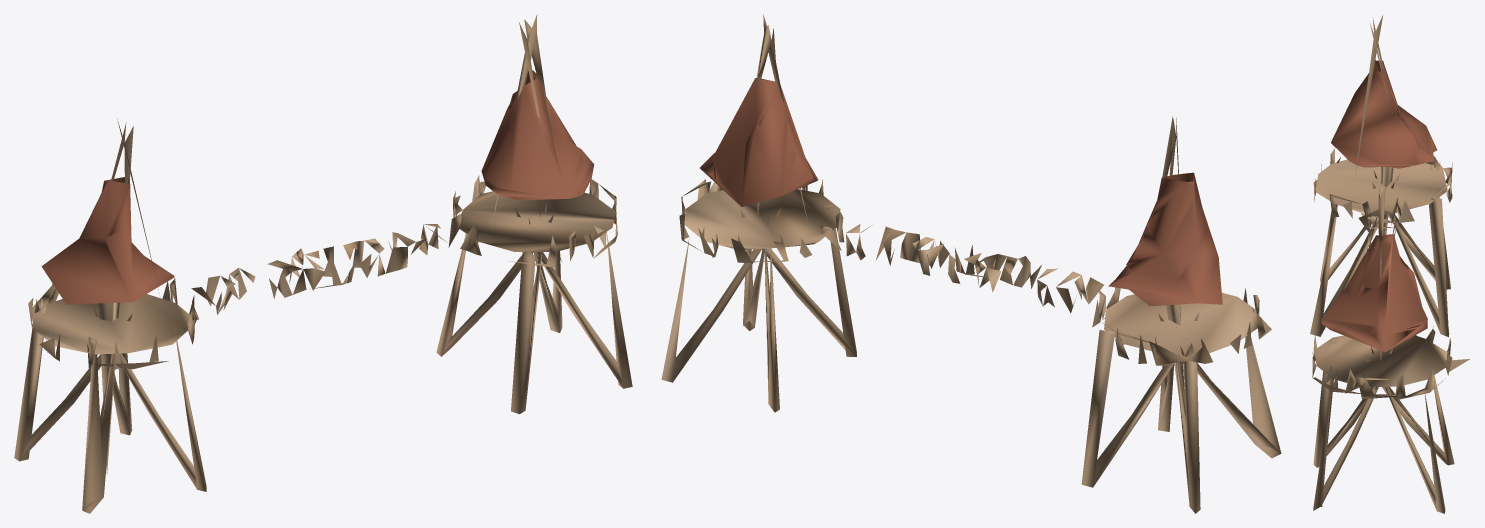
The model's file is puente_madera_lejos.glb.
3 renders of one model, left to right at view 1: azimuth 30°, elevation 25°; view 2: azimuth 150°, elevation 25°; view 3: azimuth 270°, elevation 25°, orthographic. The views are drawn at different scales.
Parts seen in each view (by area): view 1: puente_madera_lejos; view 2: puente_madera_lejos; view 3: puente_madera_lejos.
Boxes of the visible parts, <box> form: puente_madera_lejos: <box>14,14,632,513</box>; puente_madera_lejos: <box>661,14,1281,513</box>; puente_madera_lejos: <box>1310,15,1469,513</box>.
Bounding box in the file's own units: 9.97 × 5.93 × 2.85.
